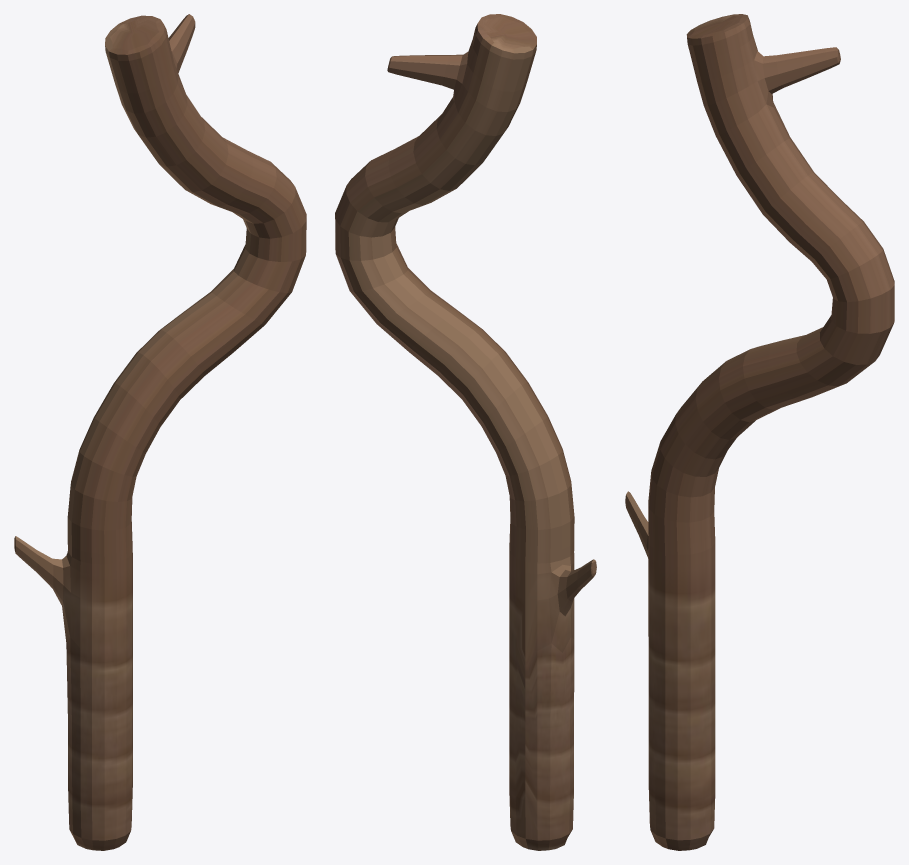
Rendered from FakeItemStick3PrehistoricPuzzle1.fbx.
3 renders of one model, left to right at view 1: azimuth 30°, elevation 25°; view 2: azimuth 150°, elevation 25°; view 3: azimuth 330°, elevation 25°, orthographic. The views are drawn at different scales.
Parts seen in each view (by area): view 1: Cylinder.001; view 2: Cylinder.001; view 3: Cylinder.001.
Boxes of the visible parts, bbox=[...] form: Cylinder.001: bbox=[14, 14, 306, 850]; Cylinder.001: bbox=[335, 14, 596, 850]; Cylinder.001: bbox=[625, 14, 894, 850].
Bounding box in the file's own units: 253 × 720 × 79.47.
1 material, 1 textured.
